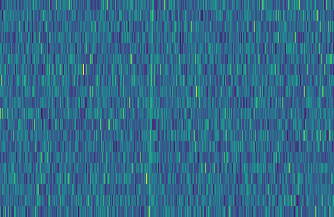signal: (143, 0, 156, 217)
